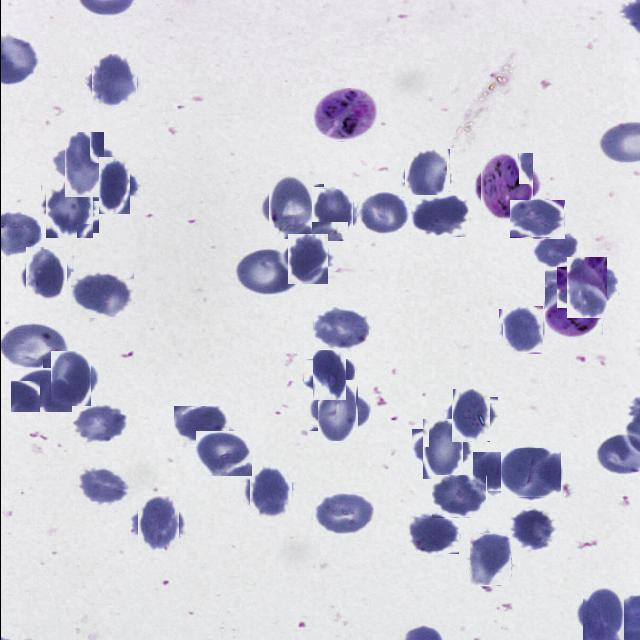difficult: (544, 270, 602, 337), (475, 158, 536, 218), (312, 88, 378, 142)
red blood cell: (232, 247, 300, 296), (500, 448, 561, 498), (70, 272, 134, 318), (264, 180, 318, 234), (42, 182, 95, 235), (10, 368, 72, 413), (310, 492, 372, 536), (58, 138, 110, 190), (195, 431, 252, 477), (88, 56, 139, 107), (312, 385, 363, 436), (561, 262, 612, 313), (416, 424, 466, 474), (410, 195, 468, 237), (313, 307, 369, 350), (402, 151, 451, 200), (431, 475, 486, 518), (356, 192, 411, 234), (133, 500, 181, 548), (22, 250, 70, 298), (308, 190, 356, 238), (46, 355, 94, 403), (579, 591, 627, 639), (72, 404, 130, 443), (469, 533, 511, 586), (246, 468, 294, 514), (77, 467, 132, 507), (472, 452, 526, 492), (406, 513, 458, 554), (173, 406, 229, 444), (506, 508, 556, 550), (509, 200, 564, 238), (447, 392, 492, 438), (284, 236, 329, 282), (90, 164, 136, 208), (500, 308, 544, 352), (308, 354, 350, 396), (532, 230, 579, 266)
